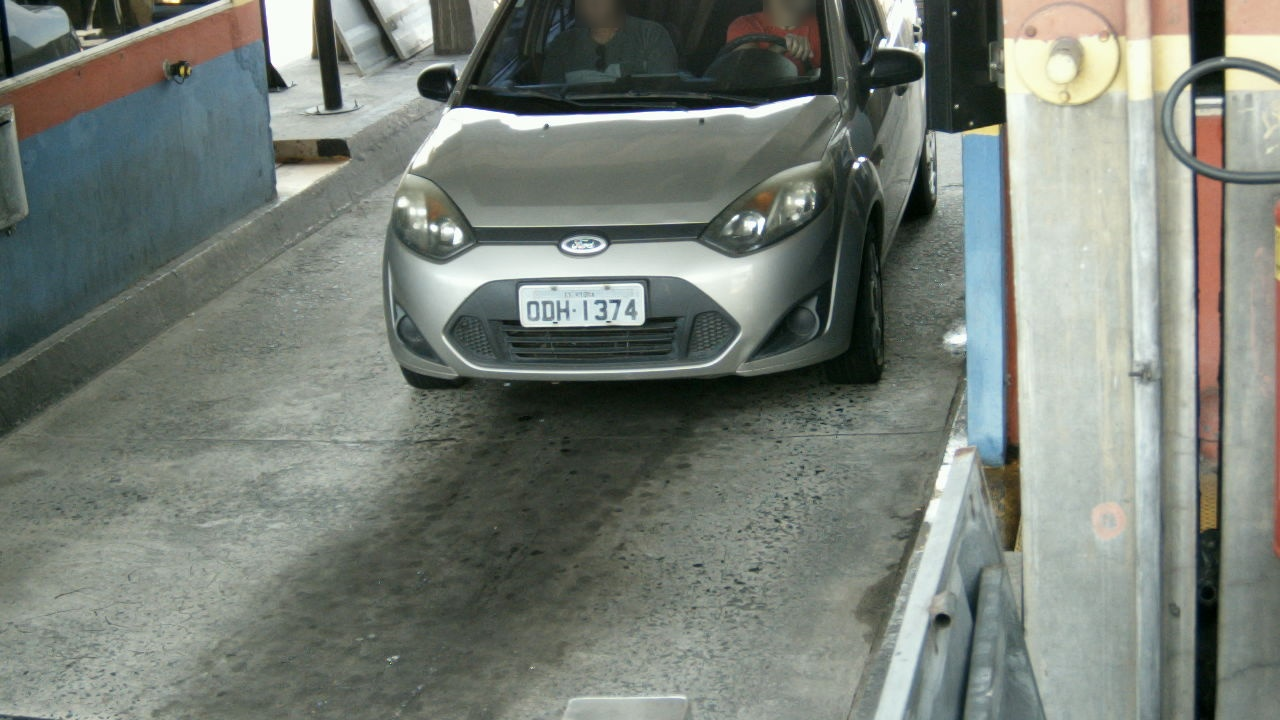placa: (519, 282, 646, 328)
